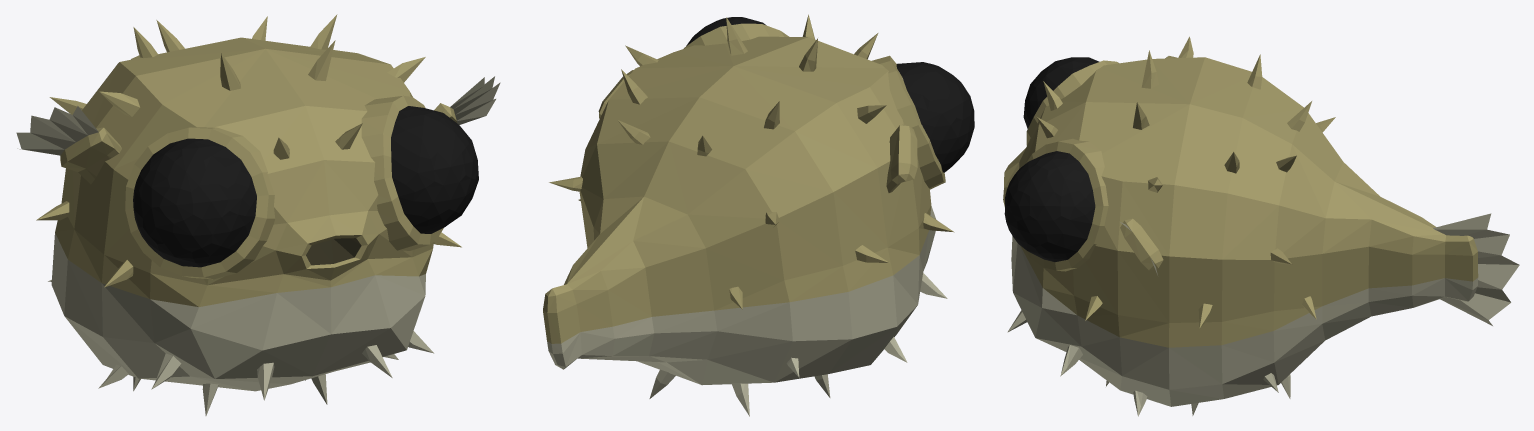
Rendered from puffer.glb.
3 views of the same model, side by side, from view 1: azimuth 30°, elevation 25°; view 2: azimuth 150°, elevation 25°; view 3: azimuth 270°, elevation 25° (orthographic). The views are drawn at different scales.
Visible parts, largest first — view 1: Pufferfish.002_baked, Pufferfish_baked; view 2: Pufferfish.002_baked, Pufferfish_baked; view 3: Pufferfish.002_baked, Pufferfish_baked.
Part boxes in pixels (<box>): Pufferfish.002_baked: <box>16,14,500,415</box>; Pufferfish_baked: <box>133,106,478,267</box>; Pufferfish.002_baked: <box>543,14,954,416</box>; Pufferfish_baked: <box>686,17,974,172</box>; Pufferfish.002_baked: <box>1003,36,1519,416</box>; Pufferfish_baked: <box>1004,57,1099,262</box>.
Size of the model in its own units: 3.4 by 2.72 by 3.98.
